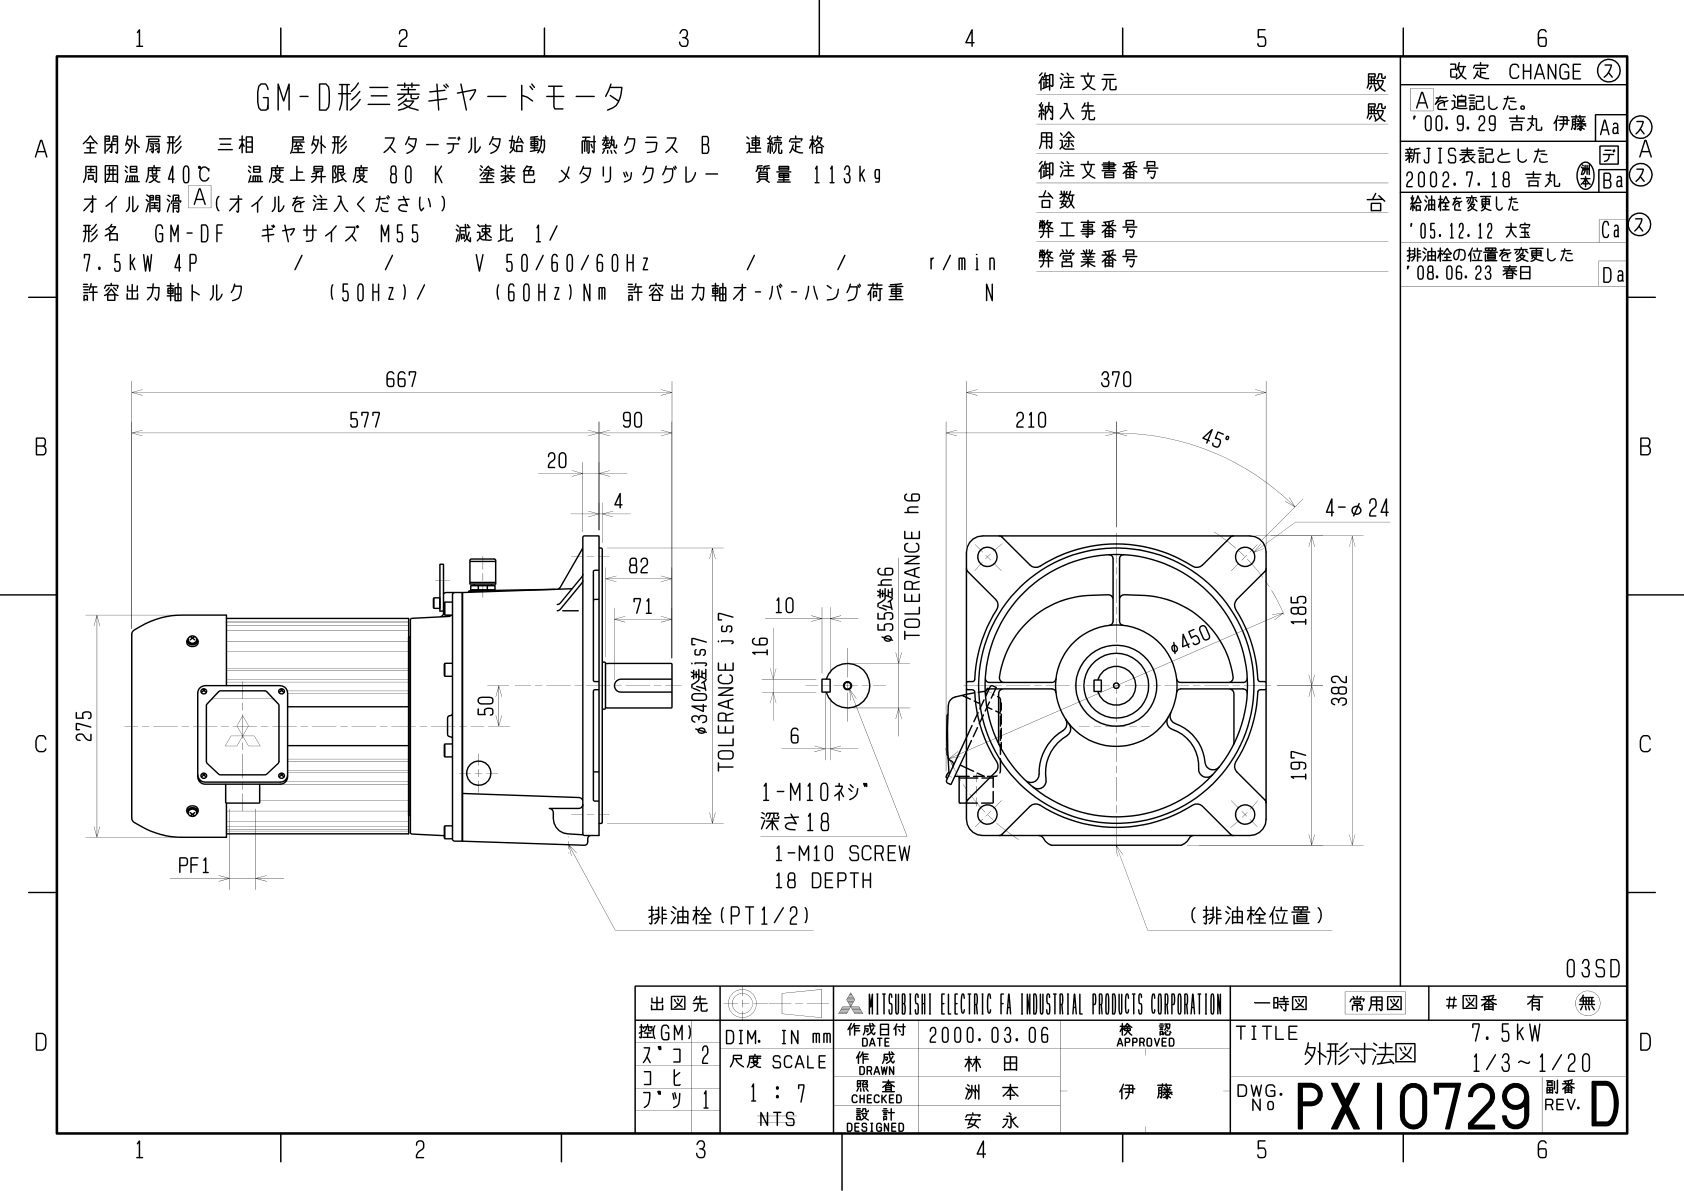GM_D_屋外＿三相_フランジ: (58, 331, 1392, 971)
